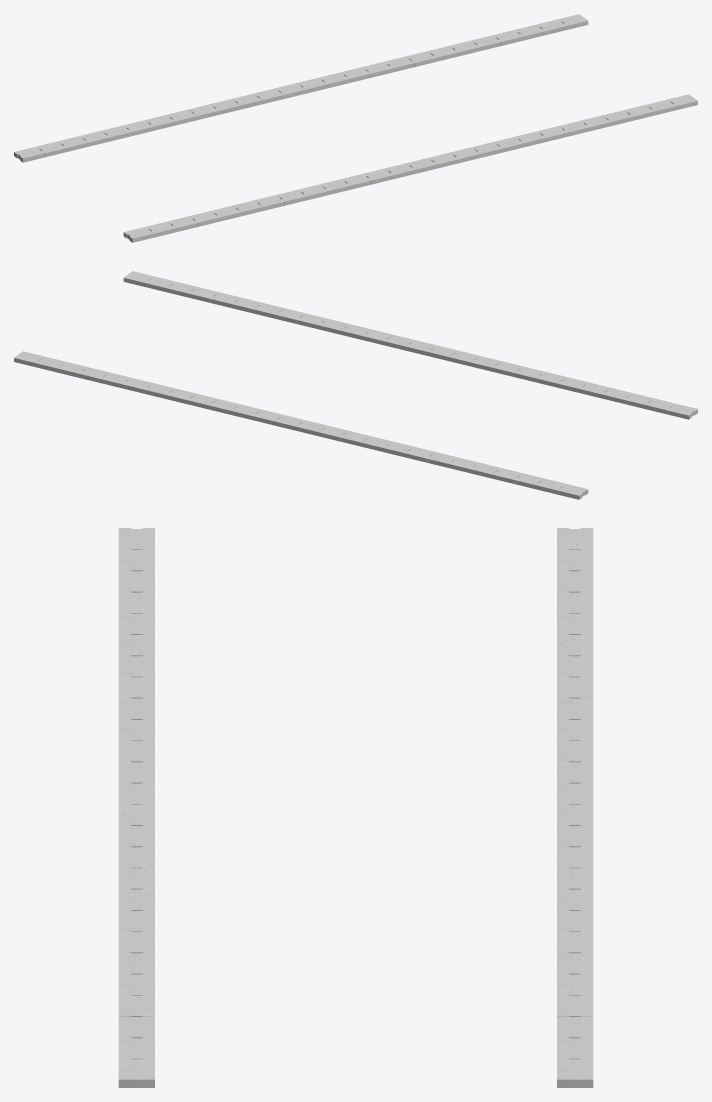
File: SM_Road_1.fbx
The picture shows the model from 3 angles, top to bottom: view 1: azimuth 30°, elevation 25°; view 2: azimuth 150°, elevation 25°; view 3: azimuth 270°, elevation 25°; orthographic projection. The views are drawn at different scales.
Parts seen in each view (by area): view 1: ｺﾝｸﾘｰﾄ2, ｺﾝｸﾘｰﾄ2.001; view 2: ｺﾝｸﾘｰﾄ2.001, ｺﾝｸﾘｰﾄ2; view 3: ｺﾝｸﾘｰﾄ2, ｺﾝｸﾘｰﾄ2.001.
Part boxes in pixels (box(x1,y1,x2,y2)): ｺﾝｸﾘｰﾄ2: box(14, 14, 588, 162); ｺﾝｸﾘｰﾄ2.001: box(123, 94, 697, 242); ｺﾝｸﾘｰﾄ2.001: box(123, 271, 697, 419); ｺﾝｸﾘｰﾄ2: box(14, 351, 588, 499); ｺﾝｸﾘｰﾄ2: box(557, 528, 593, 1087); ｺﾝｸﾘｰﾄ2.001: box(118, 528, 154, 1087).
Bounding box in the file's own units: 13 × 0.09 × 4.72.
2 materials, 2 textured.
